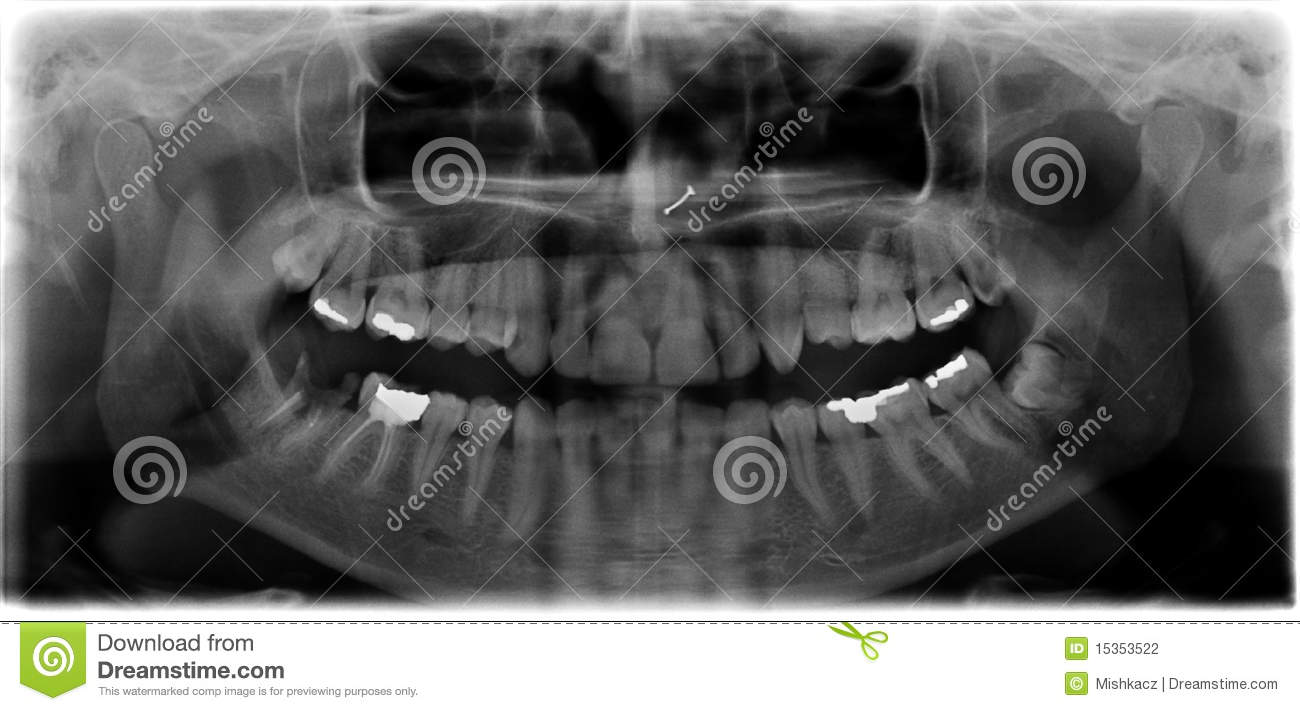canine: (759, 243, 807, 380), (508, 392, 554, 533), (727, 393, 774, 530), (505, 250, 550, 385)
incisor: (588, 263, 658, 388), (656, 266, 721, 388), (715, 249, 765, 387), (550, 247, 595, 380), (554, 394, 601, 519), (678, 396, 731, 503), (633, 397, 682, 501), (600, 394, 635, 509)
molar: (917, 337, 1039, 473), (325, 362, 442, 493), (852, 369, 961, 509), (308, 224, 383, 343), (267, 206, 354, 308), (843, 231, 917, 350), (903, 224, 976, 340), (1003, 336, 1089, 416), (366, 262, 442, 352), (956, 213, 1022, 312)
premolar: (817, 390, 883, 524), (466, 243, 526, 374), (770, 390, 827, 521), (414, 387, 472, 513), (460, 394, 511, 535), (801, 239, 854, 360), (426, 248, 477, 361)
